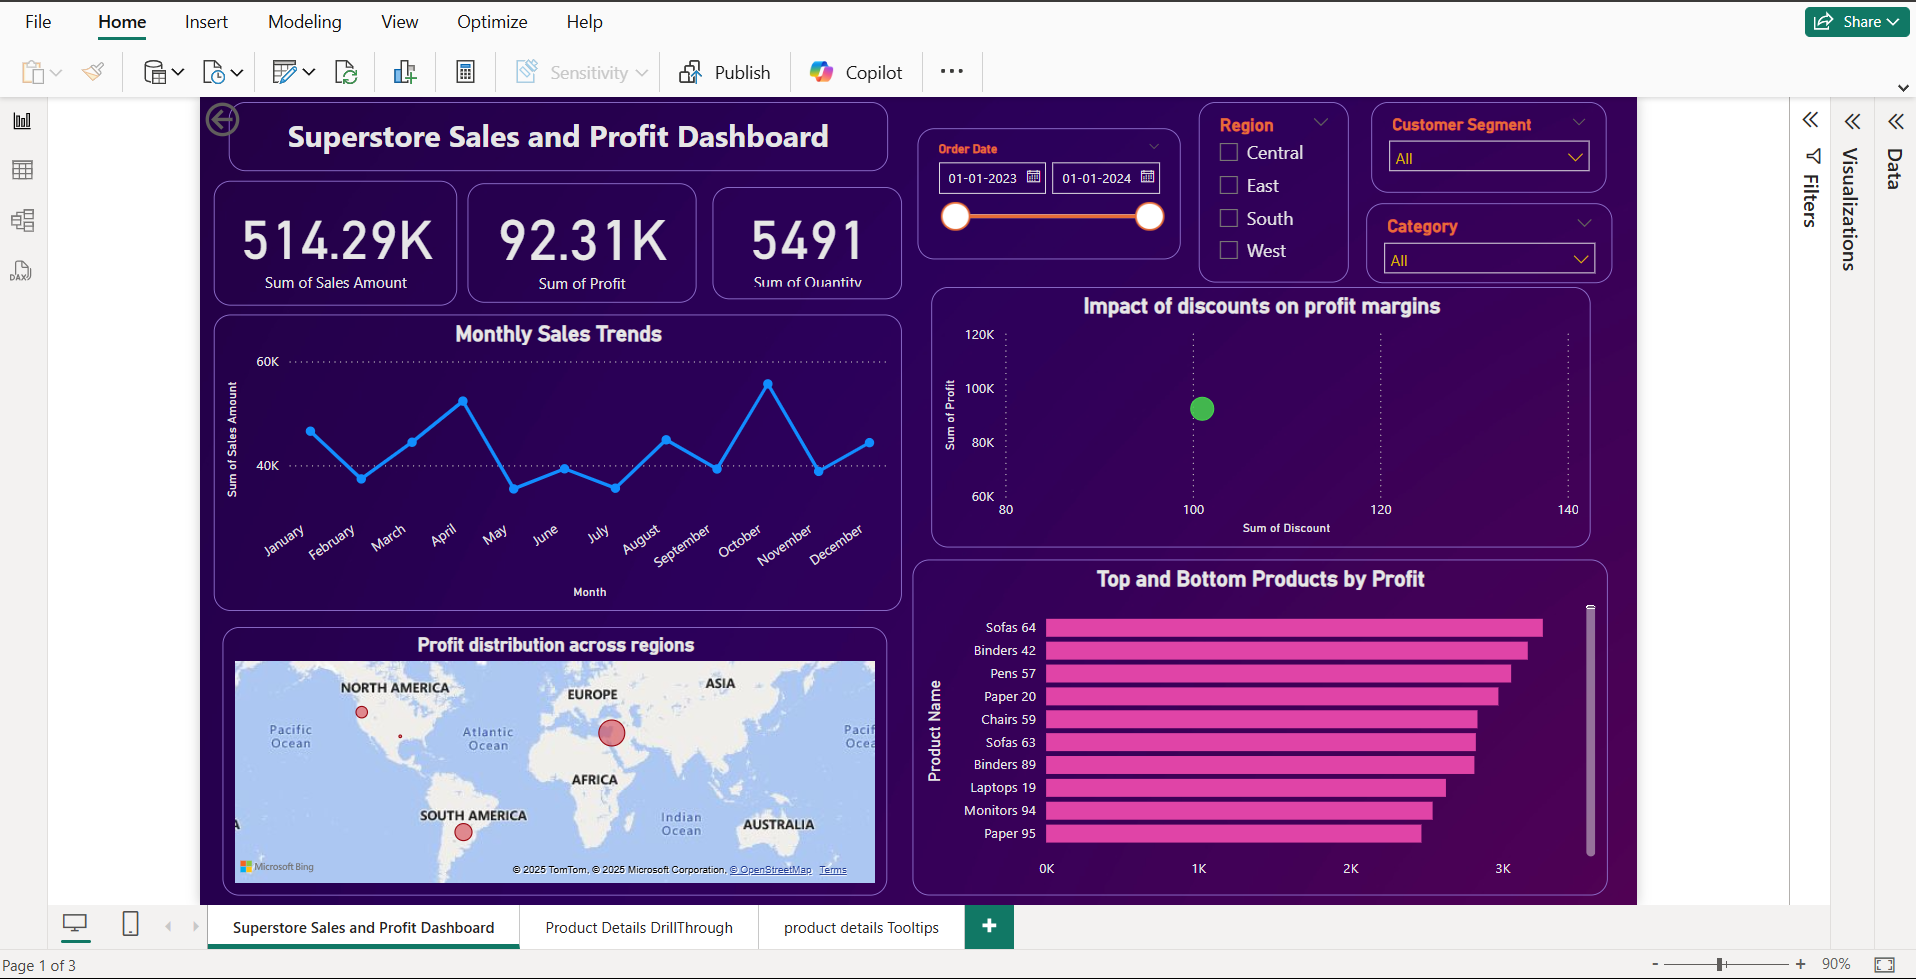

This screenshot's page, from the dashboard's own definition file:
{"tool":"powerbi","page":{"name":"Superstore Sales and Profit Dashboard ","canvas":[1280,720],"ordinal":0},"visuals":[{"type":"card","fields":{"Values":["Sum(Superstore_Sales_Dataset.Sales Amount)"]},"box":[12.1,74.8,217.2,111],"z":0},{"type":"card","fields":{"Values":["Sum(Superstore_Sales_Dataset.Profit)"]},"box":[237.7,77.2,203.9,106.2],"z":1000},{"type":"card","fields":{"Values":["Sum(Superstore_Sales_Dataset.Quantity)"]},"box":[456,79.6,168.9,100.1],"z":2000},{"type":"lineChart","title":"Monthly Sales Trends","fields":{"Category":["Superstore_Sales_Dataset.Order Date.Variation.Date Hierarchy.Month"],"Y":["Sum(Superstore_Sales_Dataset.Sales Amount)"]},"box":[12.1,194.2,612.9,264.2],"z":3000},{"type":"clusteredBarChart","title":"Top and Bottom Products by Profit","fields":{"Category":["Superstore_Sales_Dataset.Product Name"],"Y":["Sum(Superstore_Sales_Dataset.Sales Amount)"]},"box":[634.6,411.4,618.9,299.2],"z":4000},{"type":"map","title":"Profit distribution across regions","fields":{"Category":["Superstore_Sales_Dataset.Region"],"Size":["Sum(Superstore_Sales_Dataset.Profit)"]},"box":[20.5,471.7,592.4,238.9],"z":5000},{"type":"scatterChart","title":"Impact of discounts on profit margins","fields":{"X":["Sum(Superstore_Sales_Dataset.Discount)"],"Y":["Sum(Superstore_Sales_Dataset.Profit)"],"Size":["Sum(Superstore_Sales_Dataset.Sales Amount)"]},"box":[651.5,168.9,587.5,231.6],"z":6000},{"type":"slicer","fields":{"Values":["Superstore_Sales_Dataset.Order Date"]},"box":[639.4,27.7,234,117],"z":7000},{"type":"slicer","fields":{"Values":["Superstore_Sales_Dataset.Region"]},"box":[889.1,4.8,133.9,160.5],"z":8000},{"type":"slicer","fields":{"Values":["Superstore_Sales_Dataset.Customer Segment"]},"box":[1043.6,4.8,209.9,80.8],"z":9000},{"type":"slicer","fields":{"Values":["Superstore_Sales_Dataset.Category"]},"box":[1038.7,94.1,219.6,71.2],"z":10000},{"type":"textbox","box":[25.3,4.8,587.5,61.5],"z":11000},{"type":"actionButton","box":[0,0,100,40],"z":11001}]}

Visuals, with their boxes on the page's 1280x720 design canvas (x1, y1, x2, y2). These are canvas units, not pixel positions in the 1916x979 screenshot, which may show the page scaled, cropped or inside an application window:
card - Sum(Superstore_Sales_Dataset.Sales Amount): 12, 75, 229, 186
card - Sum(Superstore_Sales_Dataset.Profit): 238, 77, 442, 183
card - Sum(Superstore_Sales_Dataset.Quantity): 456, 80, 625, 180
"Monthly Sales Trends" lineChart: 12, 194, 625, 458
"Top and Bottom Products by Profit" clusteredBarChart: 635, 411, 1254, 711
"Profit distribution across regions" map: 20, 472, 613, 711
"Impact of discounts on profit margins" scatterChart: 652, 169, 1239, 400
slicer - Superstore_Sales_Dataset.Order Date: 639, 28, 873, 145
slicer - Superstore_Sales_Dataset.Region: 889, 5, 1023, 165
slicer - Superstore_Sales_Dataset.Customer Segment: 1044, 5, 1254, 86
slicer - Superstore_Sales_Dataset.Category: 1039, 94, 1258, 165
textbox: 25, 5, 613, 66
actionButton: 0, 0, 100, 40
